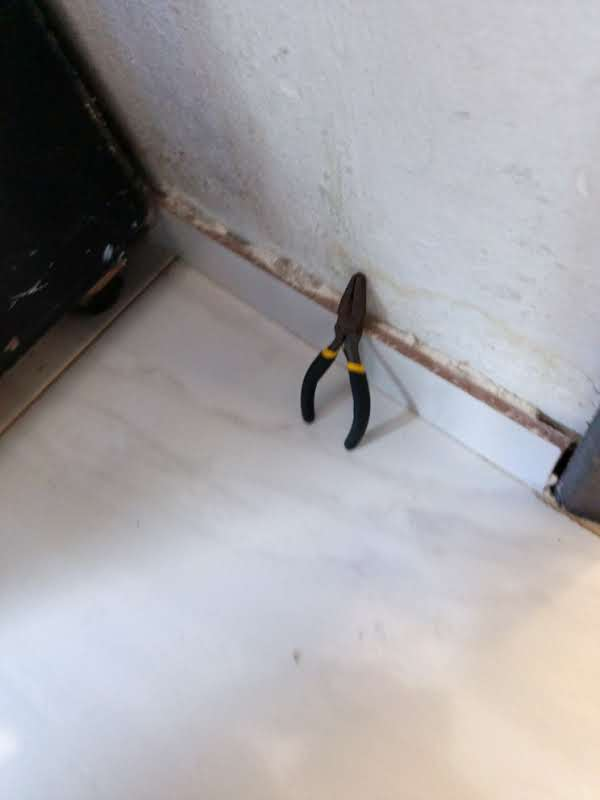Pinzas: (300, 270, 371, 450)
